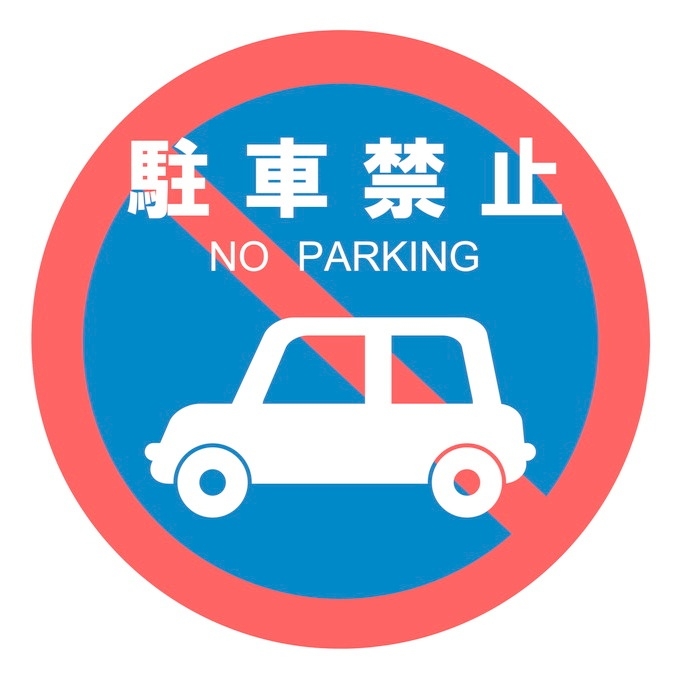Prohibition_sign: (10, 15, 644, 656)
